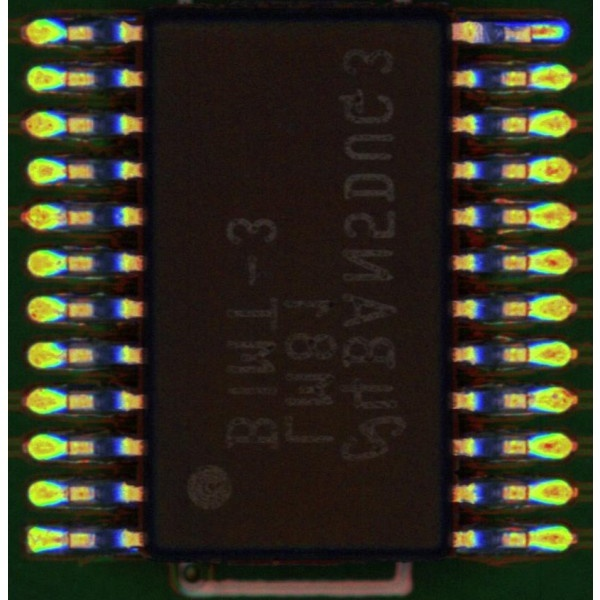Bad_podu: (516, 256, 548, 268), (514, 394, 544, 406), (517, 208, 544, 221), (53, 534, 80, 545), (520, 27, 545, 38)
